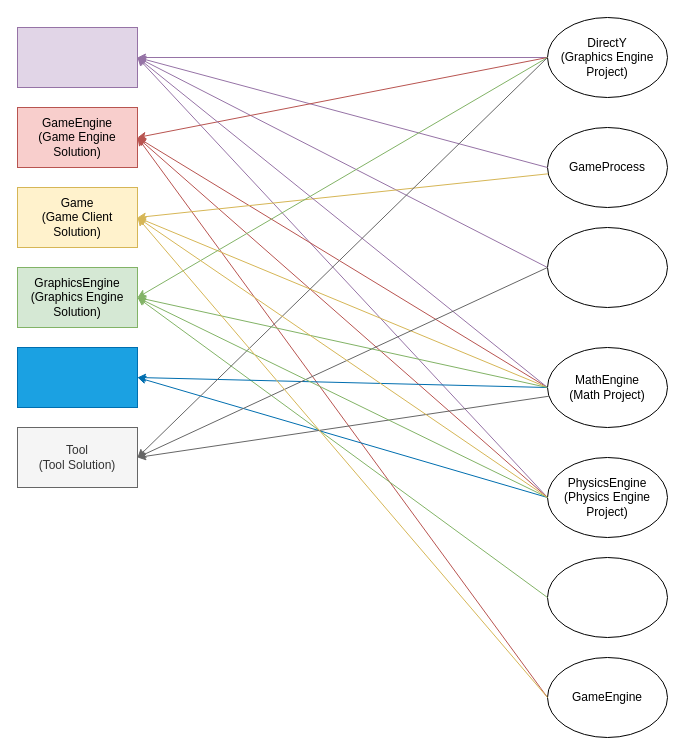
Image size: 685x755. Some labels were removed from this diagram. The box of each missing label's shape, as (x1, y1, x2, y2) in pixels:
DemoDirectY: (546, 556, 668, 638)
FlowerGarden (Total Soultion): (16, 26, 138, 88)
Gyunity (MFC): (546, 226, 668, 308)
PhysicsEngine (Physics Engine Solution): (16, 346, 138, 408)
